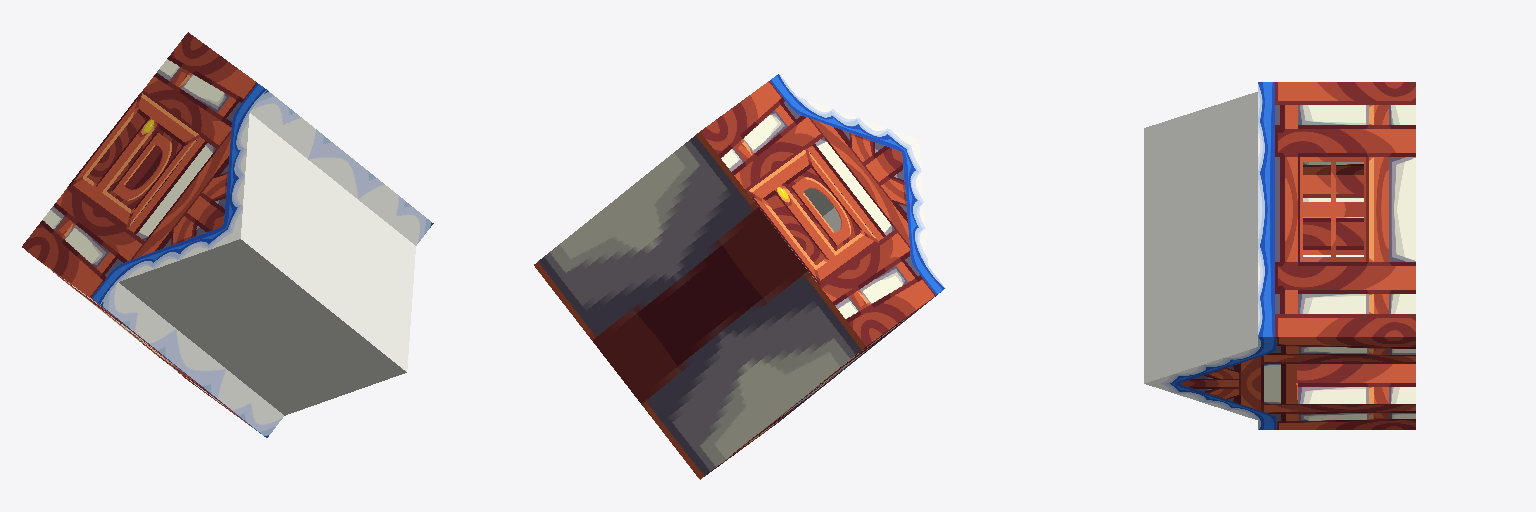
3 renders of one model, left to right at view 1: azimuth 30°, elevation 25°; view 2: azimuth 150°, elevation 25°; view 3: azimuth 270°, elevation 25°, orthographic.
Visible parts, largest first — view 1: House_Cube.001, Plane; view 2: House_Cube.001, Plane; view 3: House_Cube.001.
Boxes of the visible parts, <box> form: House_Cube.001: <box>22,32,433,437</box>; Plane: <box>68,92,199,229</box>; House_Cube.001: <box>534,74,945,479</box>; Plane: <box>747,148,878,284</box>; House_Cube.001: <box>1144,82,1415,429</box>.
Bounding box in the file's own units: 2.83 × 2.83 × 2.
Materials: 3 (3 with a texture image).